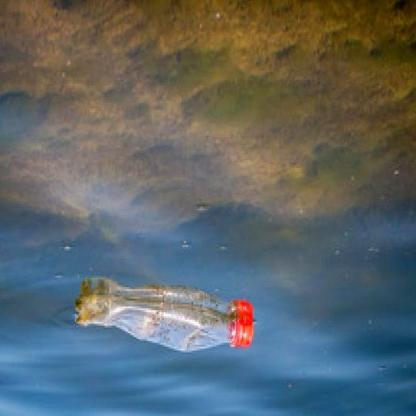plastic bottle: (75, 275, 255, 353)
